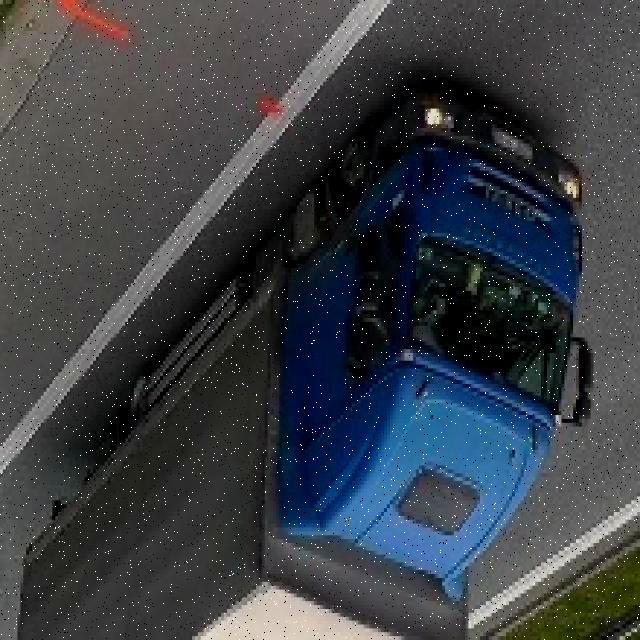truck: (24, 85, 596, 640)
